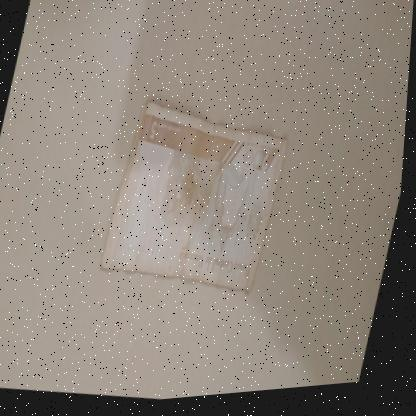five-back-vef: (97, 90, 297, 308)
